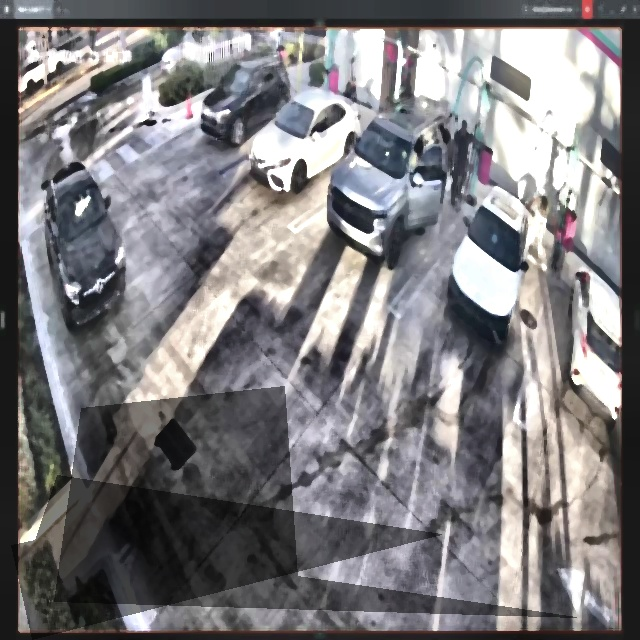Car: (330, 97, 451, 270), (451, 186, 532, 347), (249, 90, 359, 191)
